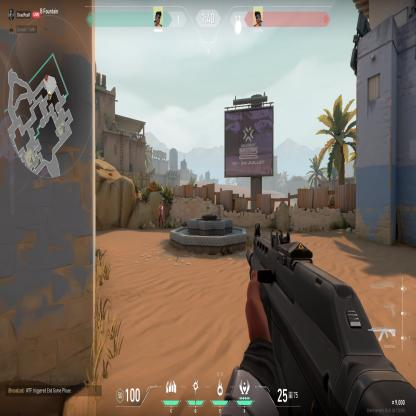enemy: (158, 200, 164, 230)
